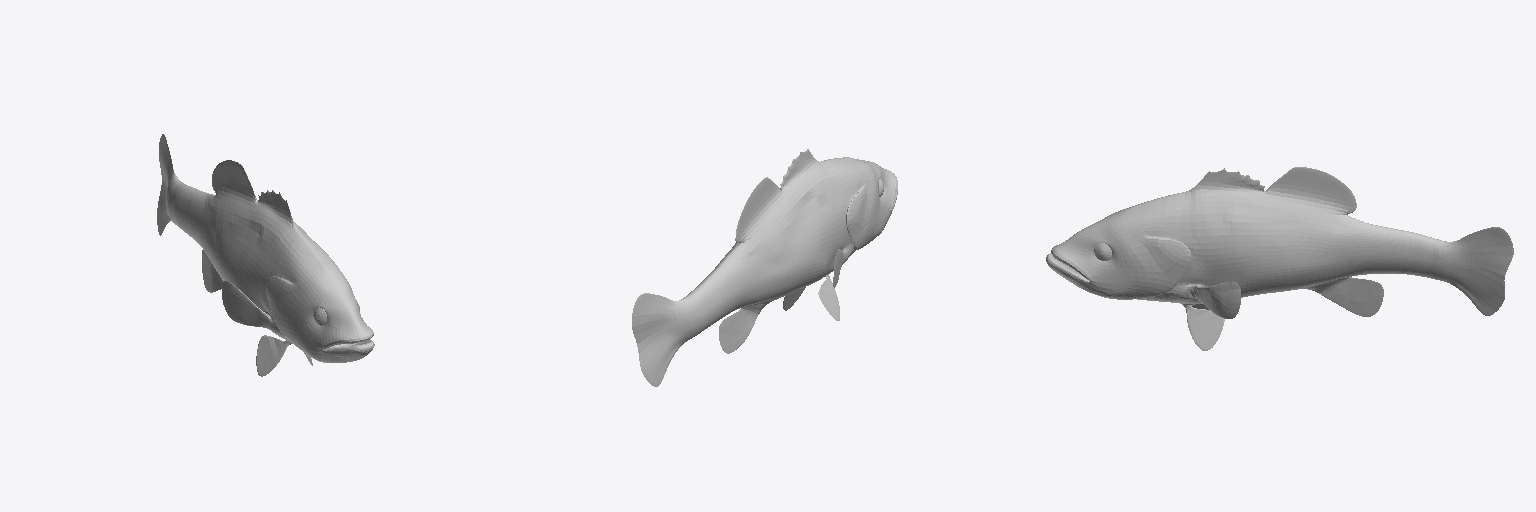
Rendered from pez2.obj.
The picture shows the model from 3 angles: view 1: azimuth 30°, elevation 25°; view 2: azimuth 150°, elevation 25°; view 3: azimuth 270°, elevation 25°; orthographic projection.
Parts seen in each view (by area): view 1: body_mesh_Plane.001; view 2: body_mesh_Plane.001; view 3: body_mesh_Plane.001.
Part boxes in pixels (left/top/right/bottom): body_mesh_Plane.001: left=157, top=134, right=374, bottom=376; body_mesh_Plane.001: left=632, top=149, right=897, bottom=386; body_mesh_Plane.001: left=1046, top=167, right=1513, bottom=350.
Size of the model in its own units: 0.0876 by 0.144 by 0.3535.